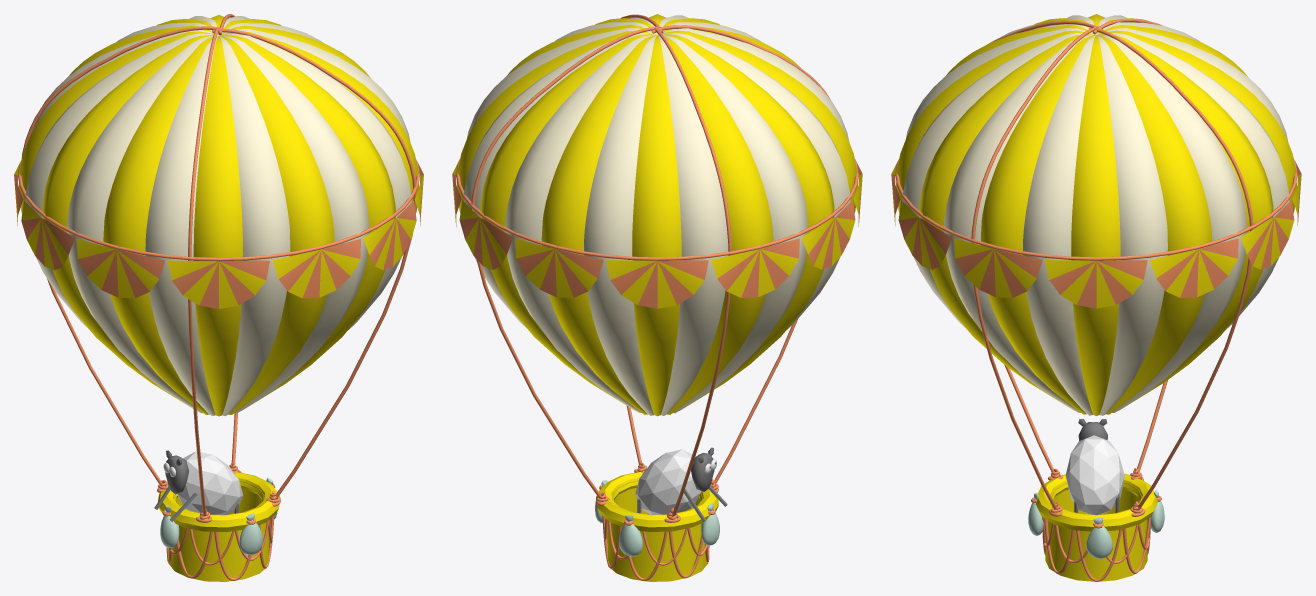
The model's file is air_balloon.glb.
3 views of the same model, side by side, from view 1: azimuth 30°, elevation 25°; view 2: azimuth 150°, elevation 25°; view 3: azimuth 270°, elevation 25° (orthographic).
Parts seen in each view (by area): view 1: Sweep 7 (×2), Sweep 8 (×2), Sweep 6 (×2), Sweep 9 (×2), Sweep 5 (×2), vingette-Mat (×5), vingette-Mat.1 (×5), Sweep 10 (×2), Cylinder, Sweep 4 (×2), body, Sweep 3 (×2) (+7 smaller); view 2: Sweep 0 (×3), Sweep 11 (×2), Sweep 10 (×2), Sweep 1 (×2), Sweep 9 (×2), vingette-Mat (×5), vingette-Mat.1 (×5), Sweep 2 (×3), Sweep 8 (×2), Sweep 3 (×3), Cylinder, body (+4 smaller); view 3: Sweep 3 (×3), Sweep 4 (×2), Sweep 2 (×3), Sweep 5 (×2), Sweep 1 (×3), vingette-Mat (×5), vingette-Mat.1 (×5), Sweep 6 (×2), Sweep 0 (×3), Cylinder, body, Torus (+4 smaller).
Boxes of the visible parts, box(x1,y1,x2,y2) form: Sweep 7 (×2): box(193, 36, 290, 416); Sweep 8 (×2): box(103, 36, 218, 415); Sweep 6 (×2): box(219, 35, 369, 414); Sweep 9 (×2): box(42, 35, 212, 413); Sweep 5 (×2): box(220, 33, 411, 410); vingette-Mat (×5): box(21, 201, 416, 308); vingette-Mat.1 (×5): box(21, 201, 416, 308); Sweep 10 (×2): box(18, 31, 217, 328); Cylinder: box(168, 481, 269, 581); Sweep 4 (×2): box(221, 29, 419, 211); body: box(177, 451, 243, 514); Sweep 3 (×2): box(21, 25, 370, 486); Sweep 0 (×3): box(471, 26, 661, 501); Sweep 11 (×2): box(632, 35, 728, 416); Sweep 10 (×2): box(658, 35, 807, 414); Sweep 1 (×2): box(480, 34, 655, 412); Sweep 9 (×2): box(663, 33, 850, 410); vingette-Mat (×5): box(459, 200, 855, 308); vingette-Mat.1 (×5): box(459, 200, 855, 308); Sweep 2 (×3): box(457, 25, 830, 484); Sweep 8 (×2): box(662, 28, 857, 212); Sweep 3 (×3): box(467, 25, 731, 516); Cylinder: box(606, 480, 708, 581); body: box(635, 449, 701, 514); Sweep 3 (×3): box(1071, 18, 1167, 476); Sweep 4 (×2): box(980, 35, 1095, 415); Sweep 2 (×3): box(987, 20, 1246, 475); Sweep 5 (×2): box(919, 34, 1094, 412); Sweep 1 (×3): box(971, 26, 1289, 512); vingette-Mat (×5): box(898, 200, 1294, 308); vingette-Mat.1 (×5): box(898, 200, 1294, 308); Sweep 6 (×2): box(896, 30, 1094, 327); Sweep 0 (×3): box(1089, 27, 1296, 510); Cylinder: box(1045, 482, 1147, 581); body: box(1065, 435, 1124, 514); Torus: box(1036, 473, 1157, 531).
Bounding box in the file's own units: 2.24 × 3.22 × 2.24.
